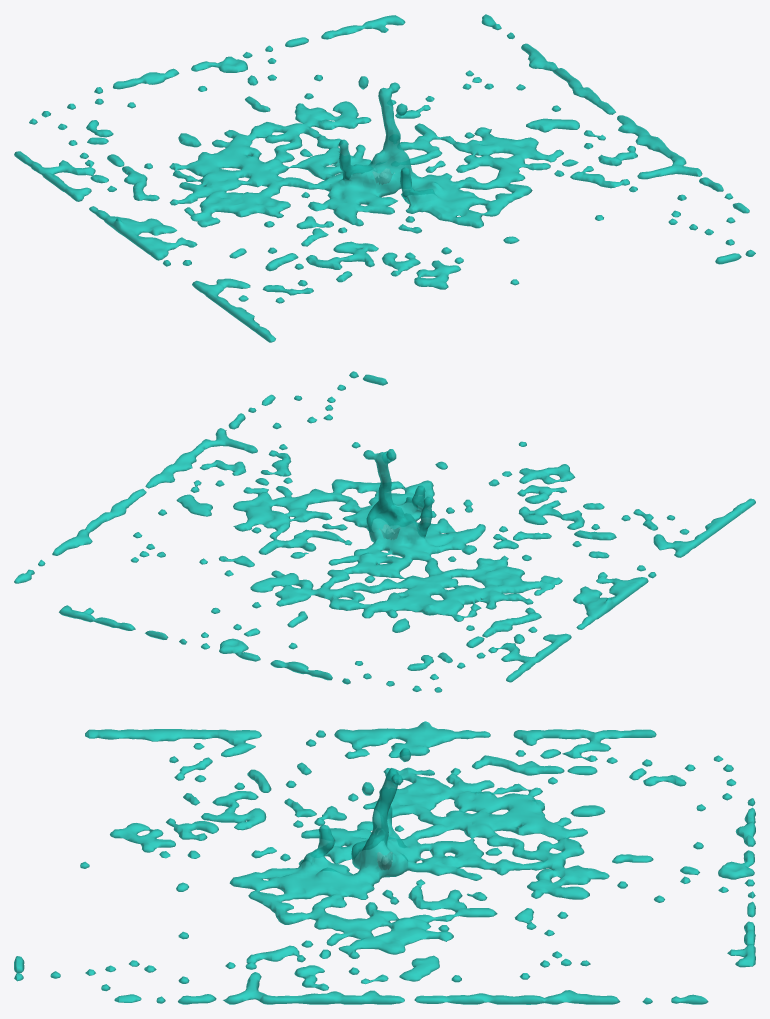
3 renders of one model, top to bottom at view 1: azimuth 30°, elevation 25°; view 2: azimuth 150°, elevation 25°; view 3: azimuth 270°, elevation 25°, orthographic. The views are drawn at different scales.
Visible parts, largest first — view 1: Liquid_Domain; view 2: Liquid_Domain; view 3: Liquid_Domain.
Part boxes in pixels (x1=…): Liquid_Domain: x1=14, y1=14, x2=755, y2=342; Liquid_Domain: x1=14, y1=371, x2=755, y2=692; Liquid_Domain: x1=14, y1=721, x2=755, y2=1004.
Size of the model in its own units: 12.44 by 2.52 by 14.41.
